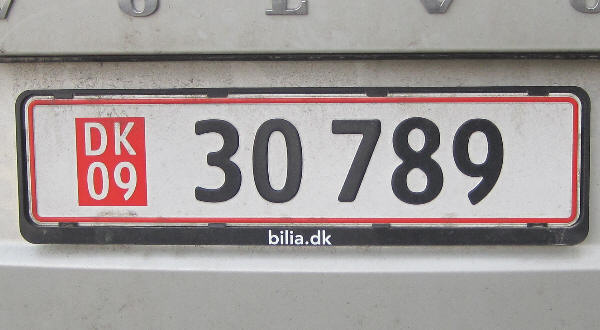license_plate: (24, 95, 580, 229)
